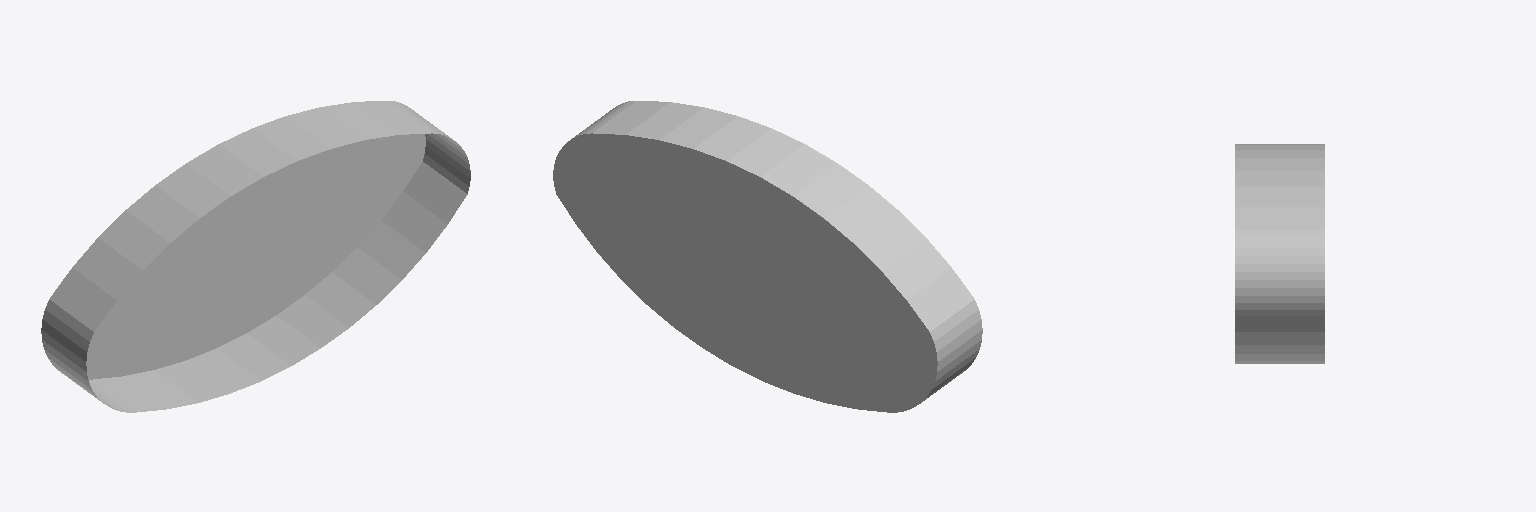
The model's file is original-21.obj.
3 renders of one model, left to right at view 1: azimuth 30°, elevation 25°; view 2: azimuth 150°, elevation 25°; view 3: azimuth 270°, elevation 25°, orthographic.
Visible parts, largest first — view 1: #ID131; view 2: #ID131; view 3: #ID131.
Part boxes in pixels (x1,y1,x2,y2): #ID131: (41, 101, 470, 412); #ID131: (553, 101, 982, 412); #ID131: (1235, 144, 1324, 363).
Bounding box in the file's own units: 0.1628 × 0.09 × 0.033.